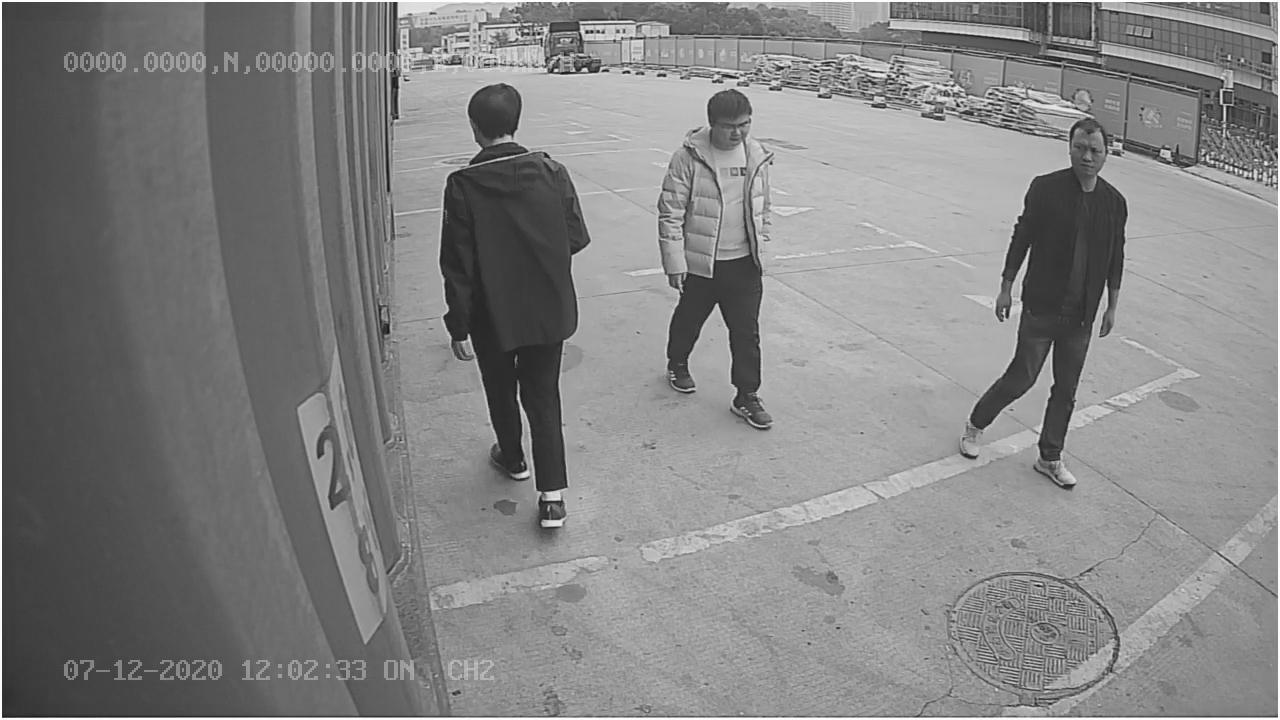person: (436, 79, 596, 534), (959, 115, 1132, 489), (655, 85, 781, 432)
